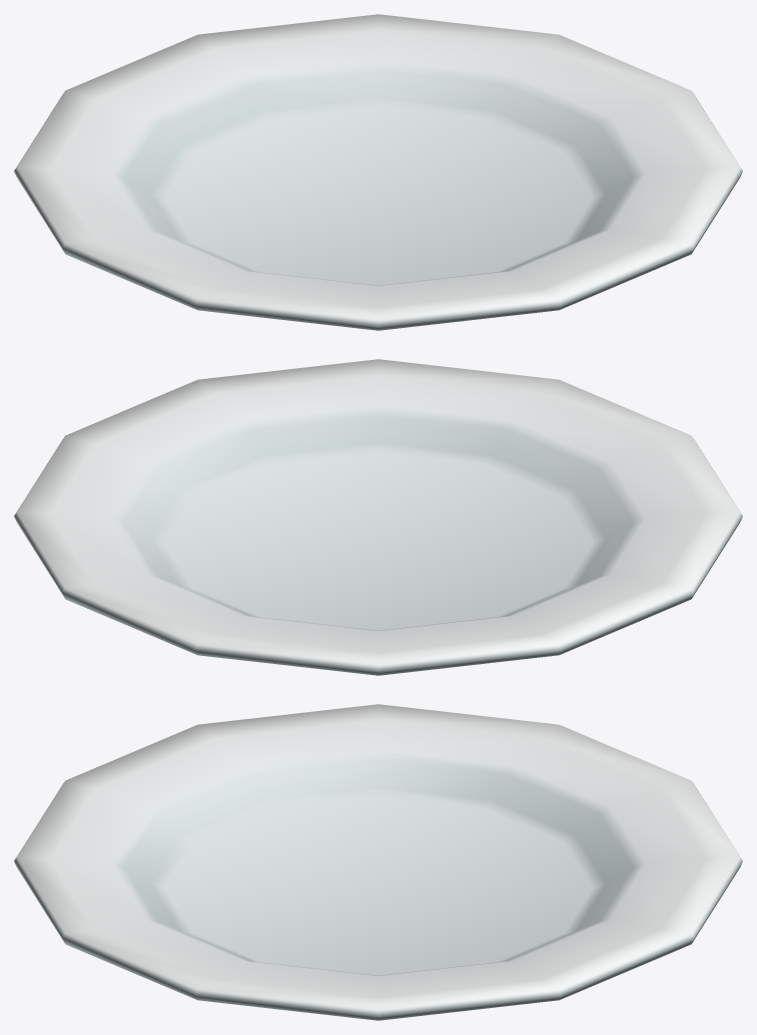
The model's file is CR_caf_Dish_003.FBX.
The picture shows the model from 3 angles, top to bottom: view 1: azimuth 30°, elevation 25°; view 2: azimuth 150°, elevation 25°; view 3: azimuth 270°, elevation 25°; orthographic projection.
Parts seen in each view (by area): view 1: CR_caf_Dish_003; view 2: CR_caf_Dish_003; view 3: CR_caf_Dish_003.
Boxes of the visible parts, x1,y1,x2,y2 form: CR_caf_Dish_003: (14,14,742,330); CR_caf_Dish_003: (14,359,742,675); CR_caf_Dish_003: (14,704,742,1020).
Bounding box in the file's own units: 31.85 × 2.79 × 31.85.
